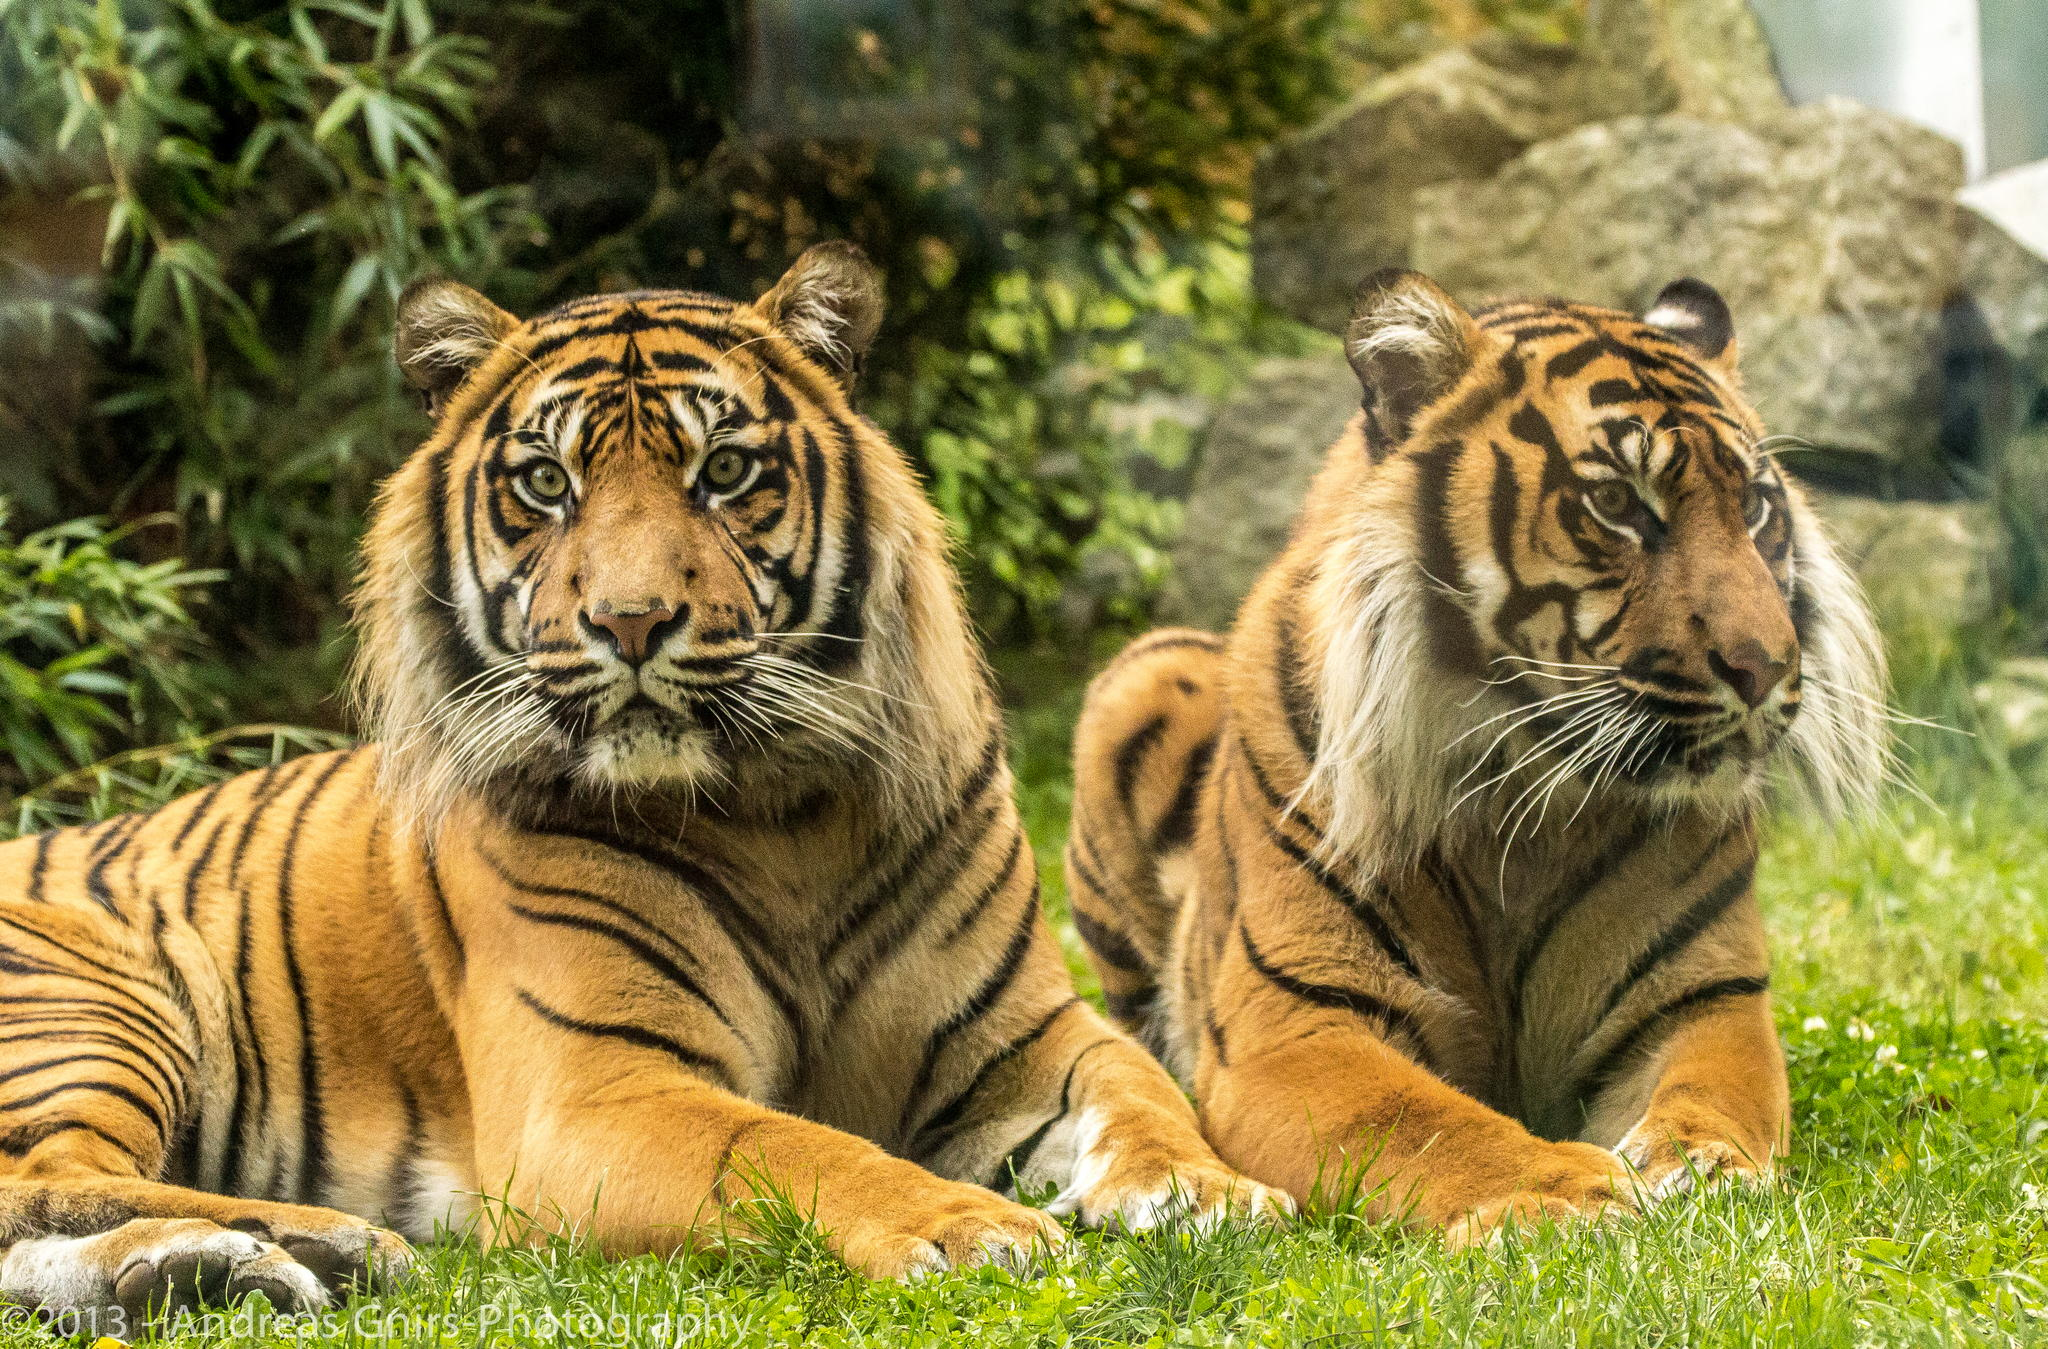tiger: (84, 238, 1171, 1344), (1050, 324, 1902, 1280)
